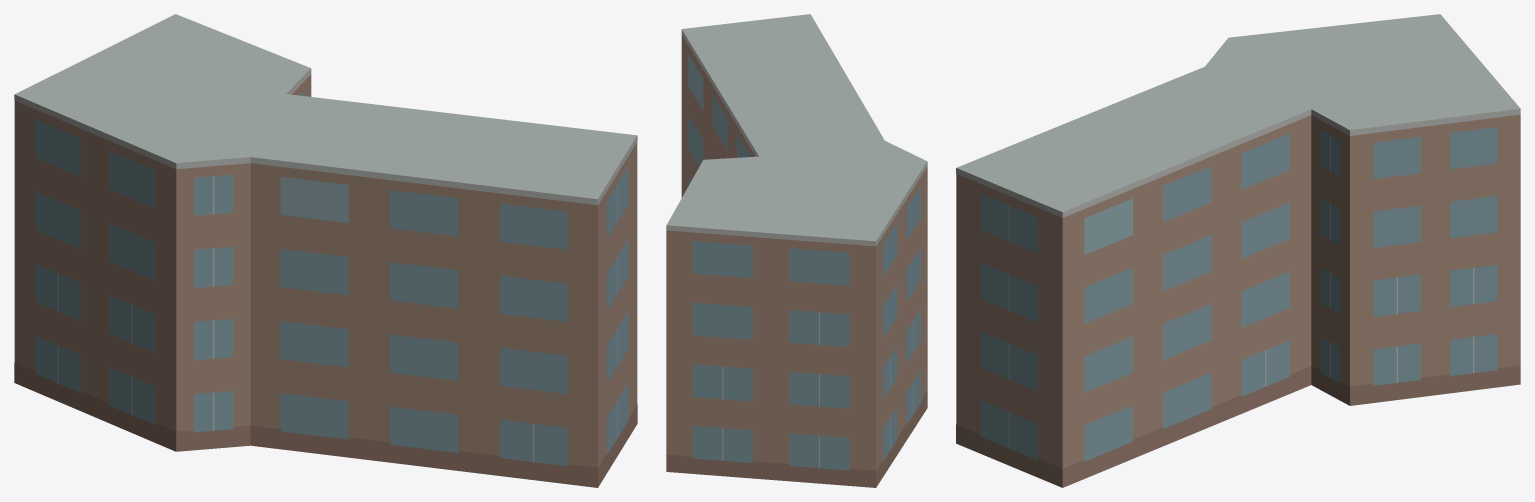
File: survey-upis-32500486.glb
3 views of the same model, side by side, from view 1: azimuth 30°, elevation 25°; view 2: azimuth 150°, elevation 25°; view 3: azimuth 270°, elevation 25° (orthographic). The views are drawn at different scales.
Parts seen in each view (by area): view 1: survey-upis-32500486.tmp; view 2: survey-upis-32500486.tmp; view 3: survey-upis-32500486.tmp.
Part boxes in pixels (x1=…): survey-upis-32500486.tmp: x1=14, y1=14, x2=637, y2=487; survey-upis-32500486.tmp: x1=666, y1=14, x2=927, y2=487; survey-upis-32500486.tmp: x1=956, y1=14, x2=1520, y2=487.
Bounding box in the file's own units: 17.89 × 11.6 × 21.54.
